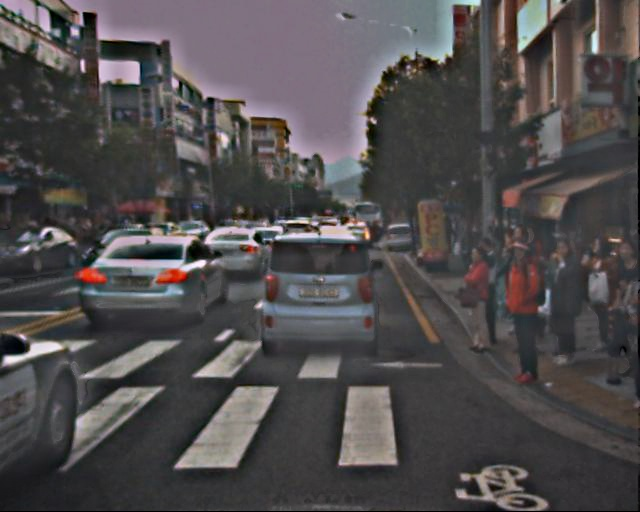person: (494, 242, 552, 383), (536, 238, 587, 362), (598, 243, 640, 377), (576, 237, 623, 351), (511, 227, 557, 338), (607, 263, 640, 405), (466, 236, 509, 341), (497, 227, 540, 332), (457, 248, 498, 347), (444, 215, 468, 248)
